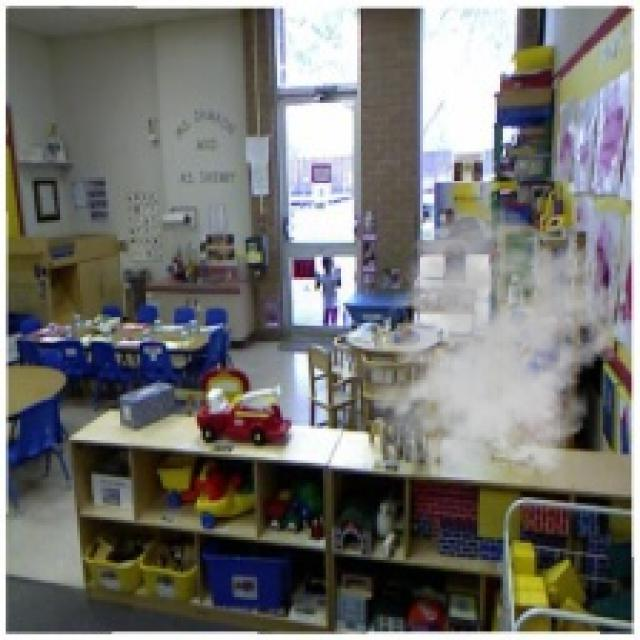smoke: (357, 205, 629, 486)
